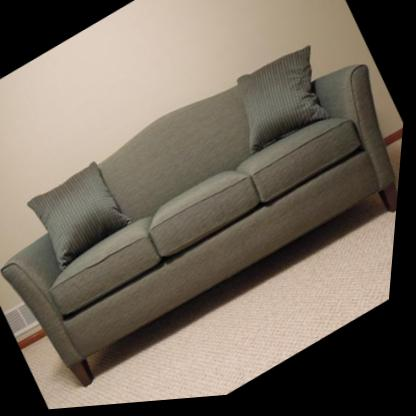Sofa: (0, 13, 413, 415)
